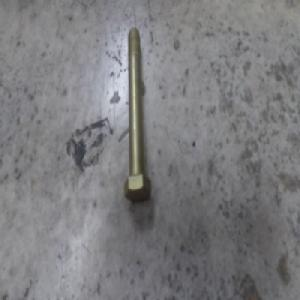Bolt: (125, 30, 151, 200)
